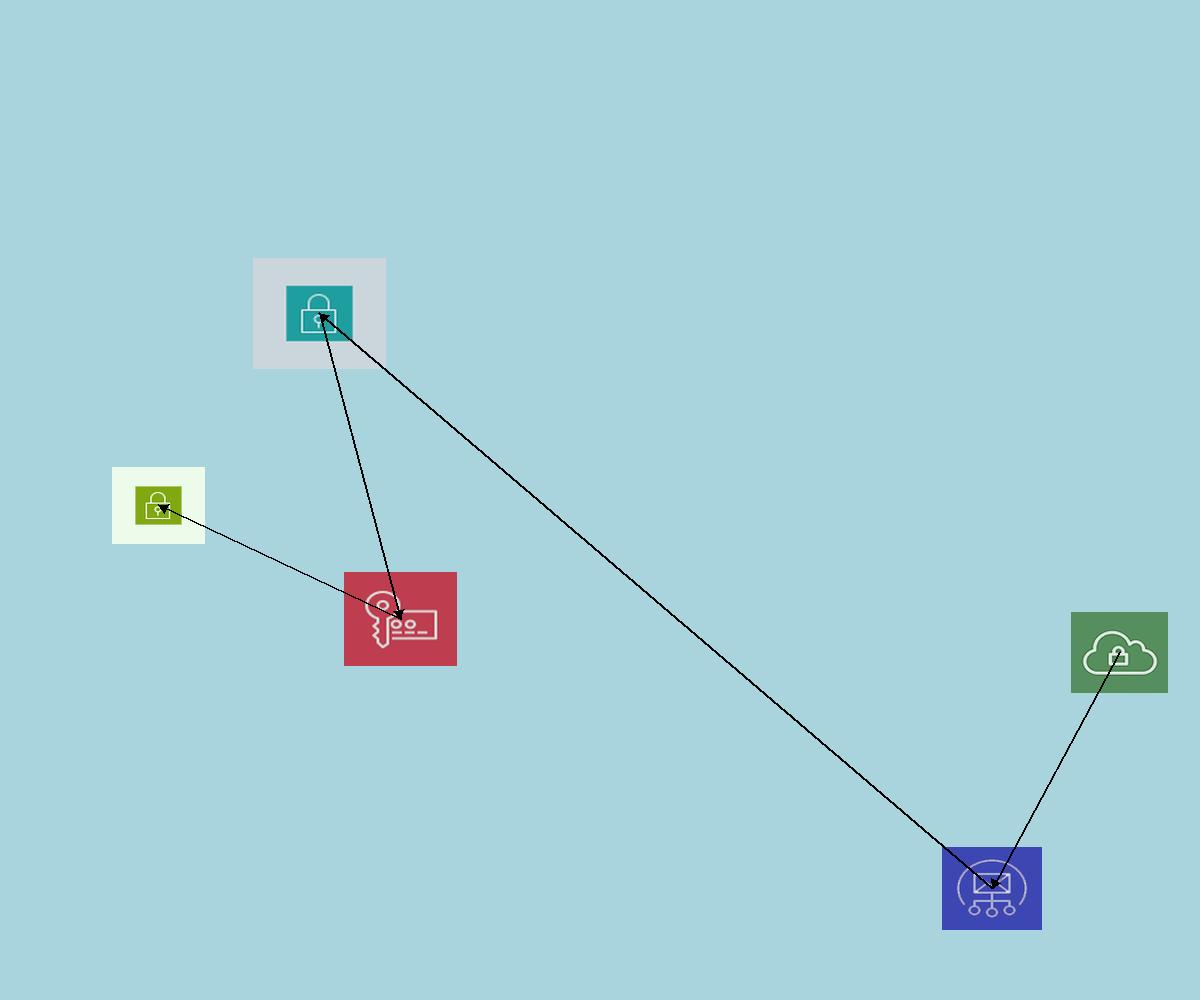AWS-Key-Management-Service: (344, 572, 457, 666)
AWS-Private-subnet: (253, 258, 386, 369)
AWS-Private_vpc: (1071, 612, 1168, 693)
AWS-Public-subnet: (112, 467, 205, 544)
AWS-Simple-Email-Service: (942, 847, 1042, 930)
